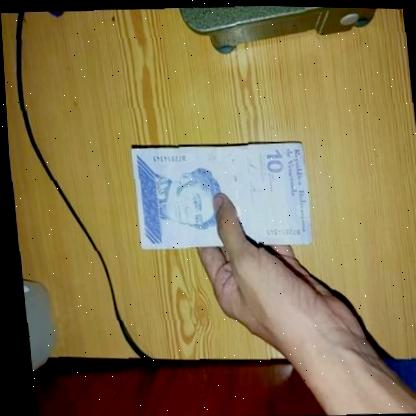ten-front-vef: (128, 138, 314, 251)
